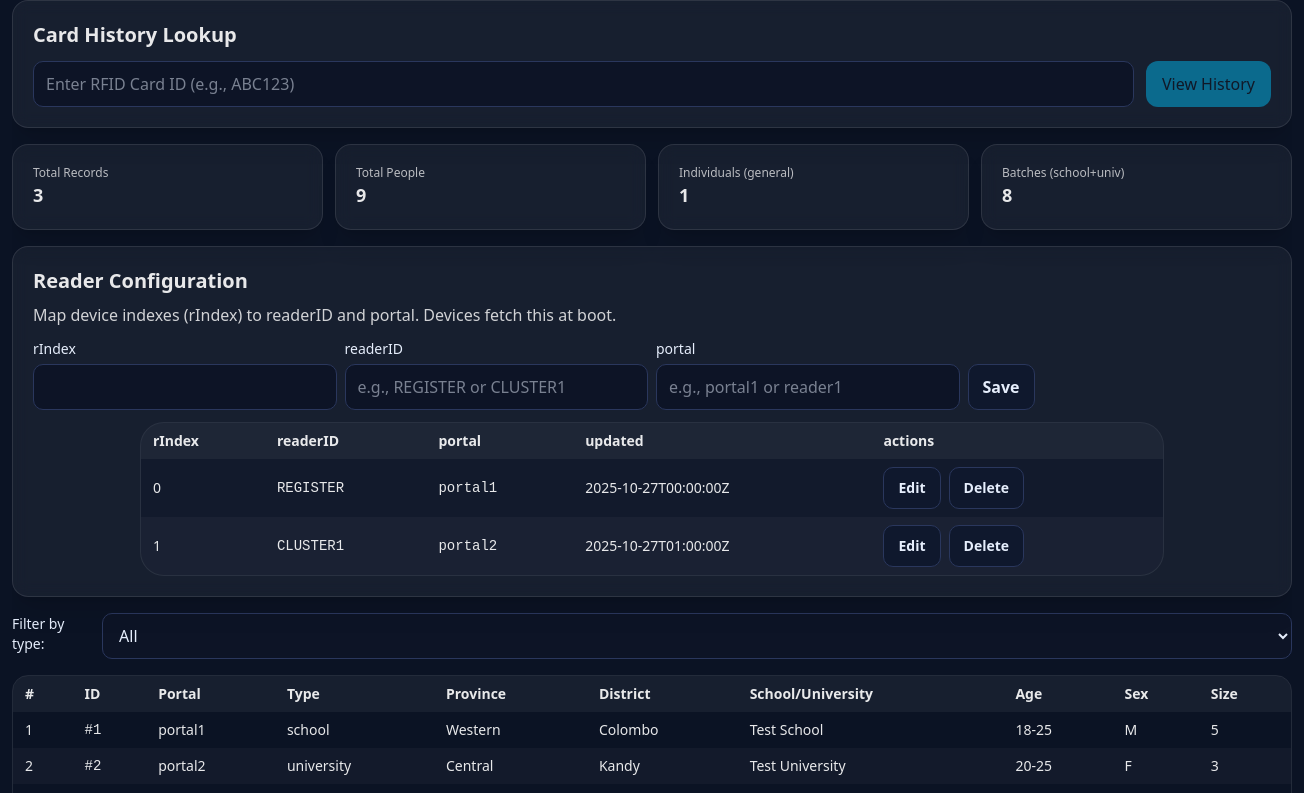
Test: AdminPortal › Registration Filtering › should filter registrations by school type
Expected: the text "Filter by type:" is shown, [12,614,64,652]
Select "School" in the dropdown showing "All" at (697,636), box [102,613,1292,659]
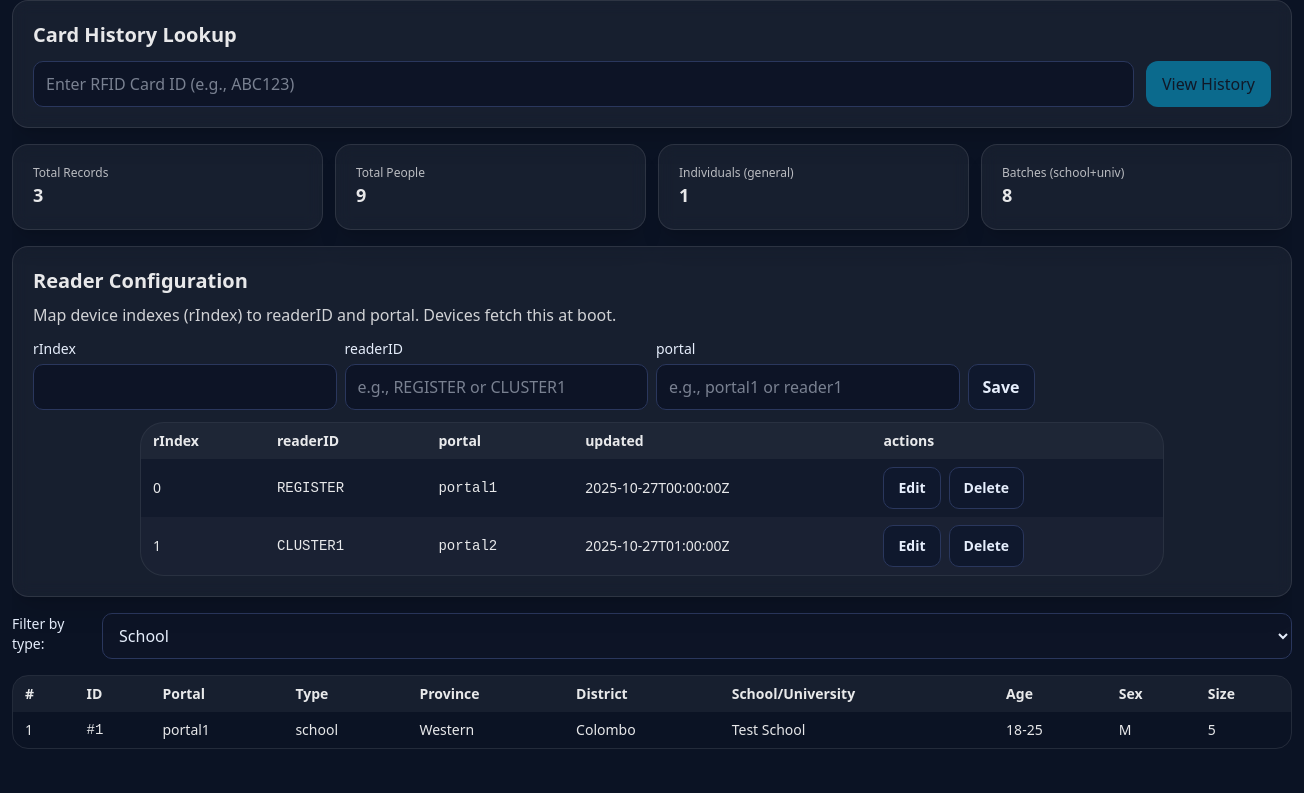
Expected: the text "Test School" is shown, [720,712,994,748]
Expected: the text "Test University" is gone
